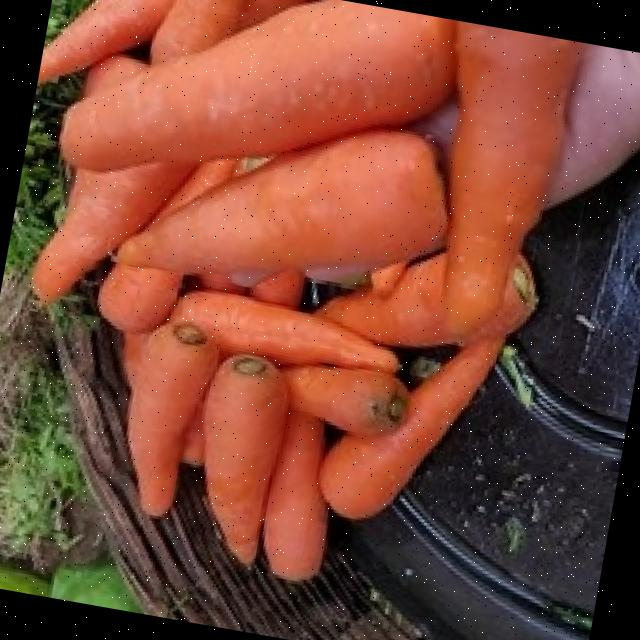carrot: (30, 0, 577, 580), (397, 99, 457, 190), (368, 343, 460, 396), (287, 274, 372, 319)
